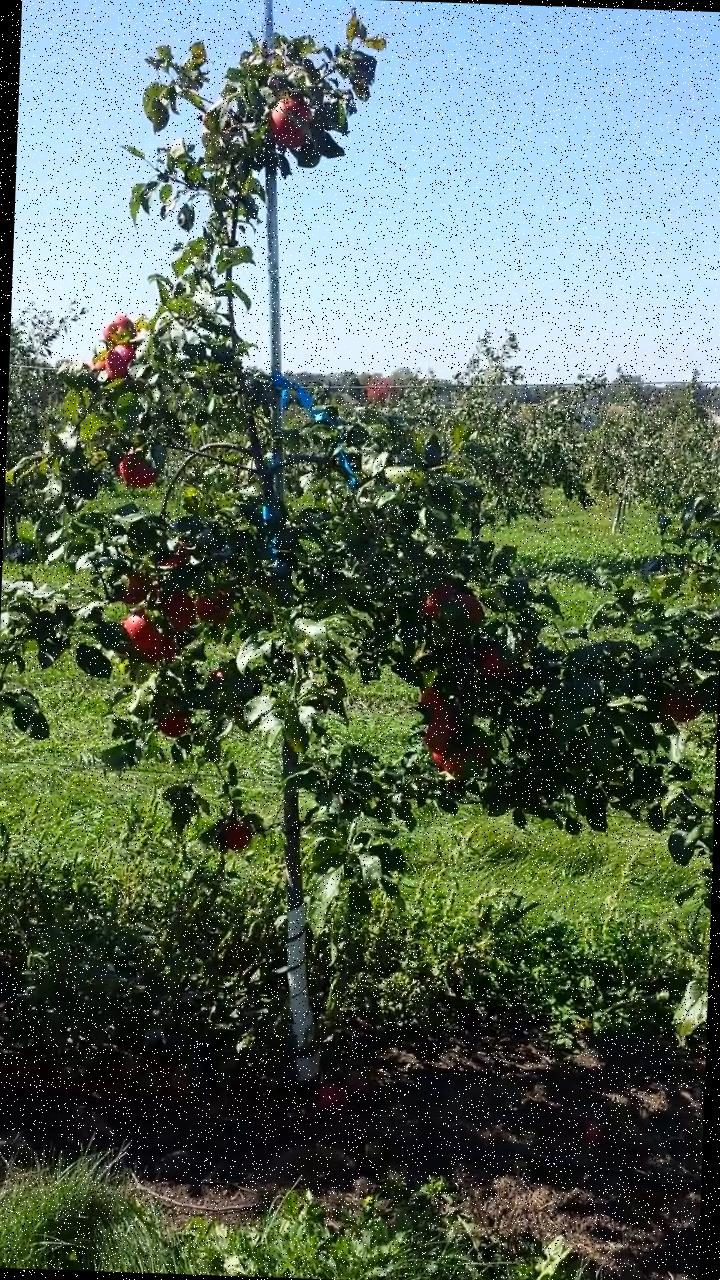Apple: (422, 721, 488, 778), (264, 89, 315, 150), (119, 610, 177, 662), (656, 678, 705, 725), (445, 591, 493, 638), (114, 447, 161, 493), (414, 573, 458, 620), (150, 536, 196, 576), (112, 564, 154, 606), (159, 591, 197, 637), (212, 812, 253, 853), (103, 342, 143, 384), (98, 310, 144, 346), (150, 702, 192, 741), (192, 590, 234, 628), (414, 684, 456, 721), (478, 646, 517, 680), (197, 668, 238, 698), (86, 349, 108, 372)
